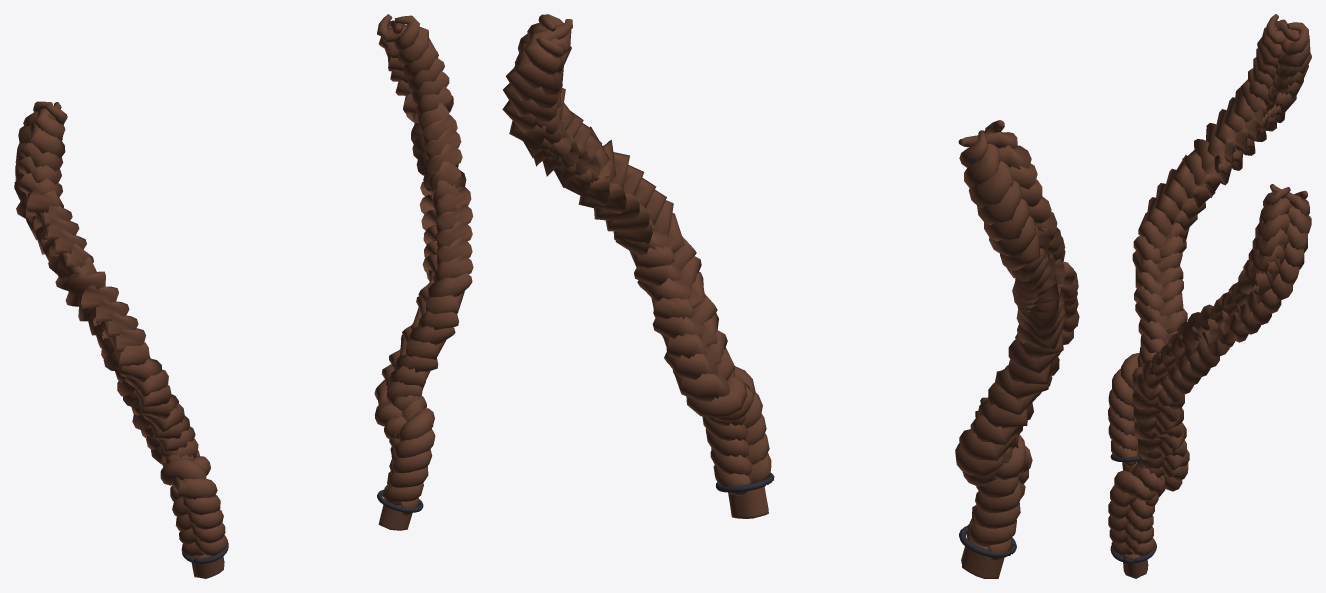
The model's file is Feminine-twin-braids-tshirt-lengths251.glb.
3 renders of one model, left to right at view 1: azimuth 30°, elevation 25°; view 2: azimuth 150°, elevation 25°; view 3: azimuth 270°, elevation 25°, orthographic. The views are drawn at different scales.
Parts seen in each view (by area): view 1: 226 hairLengths / Hair / chestnut226, 226 hairLengths / Hair / ties226; view 2: 226 hairLengths / Hair / chestnut226, 226 hairLengths / Hair / ties226; view 3: 226 hairLengths / Hair / chestnut226, 226 hairLengths / Hair / ties226.
Boxes of the visible parts, <box> form: 226 hairLengths / Hair / chestnut226: <box>14,14,473,578</box>; 226 hairLengths / Hair / ties226: <box>182,489,423,563</box>; 226 hairLengths / Hair / chestnut226: <box>502,14,1079,578</box>; 226 hairLengths / Hair / ties226: <box>716,473,1016,557</box>; 226 hairLengths / Hair / chestnut226: <box>1108,14,1311,578</box>; 226 hairLengths / Hair / ties226: <box>1110,453,1156,563</box>.
Bounding box in the file's own units: 1.09 × 1.06 × 0.4549.
